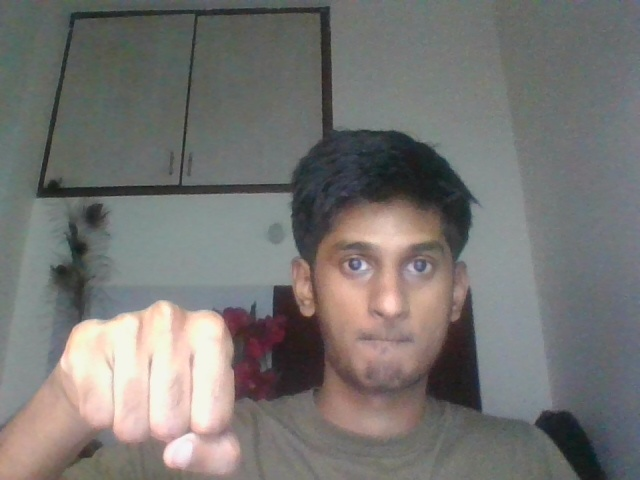Yes: (30, 278, 270, 472)
